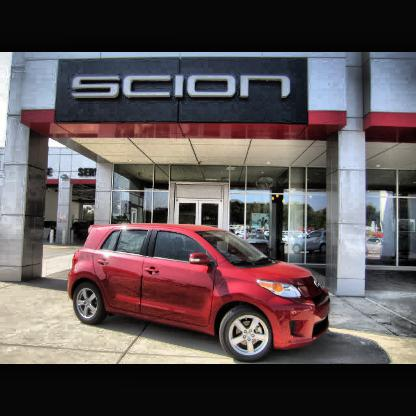Scion xD Hatchback 2012: (68, 222, 332, 364)
